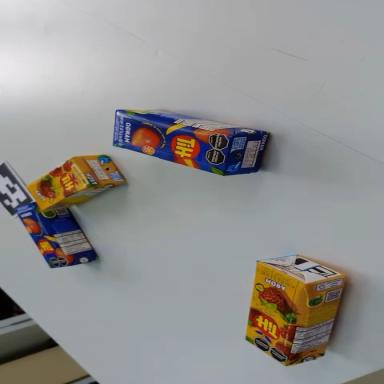HIT-MANGO: (108, 102, 270, 183), (14, 185, 100, 283)
HIT-MORA: (231, 244, 350, 375), (24, 141, 127, 221)
cara_F: (106, 108, 232, 176), (237, 262, 307, 366), (16, 199, 69, 275), (24, 156, 91, 212)
